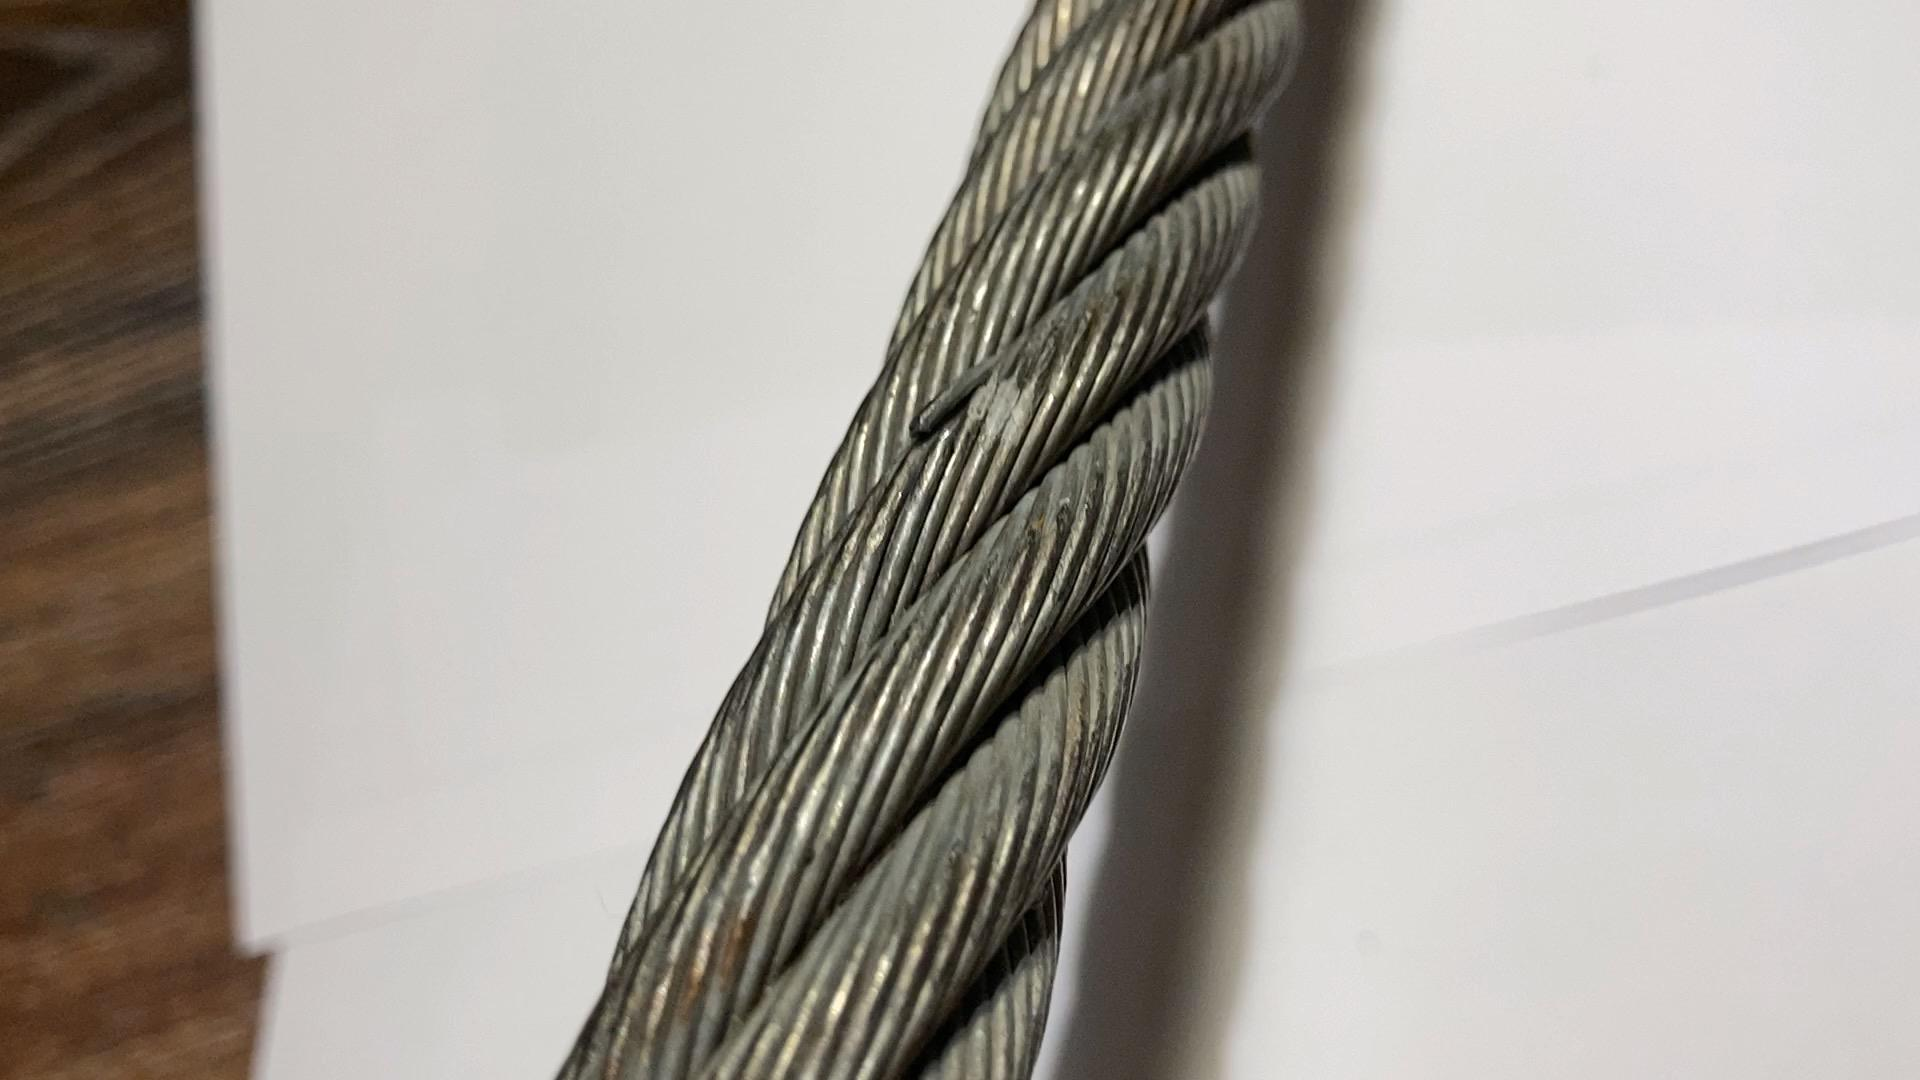break: (901, 349, 1007, 436)
